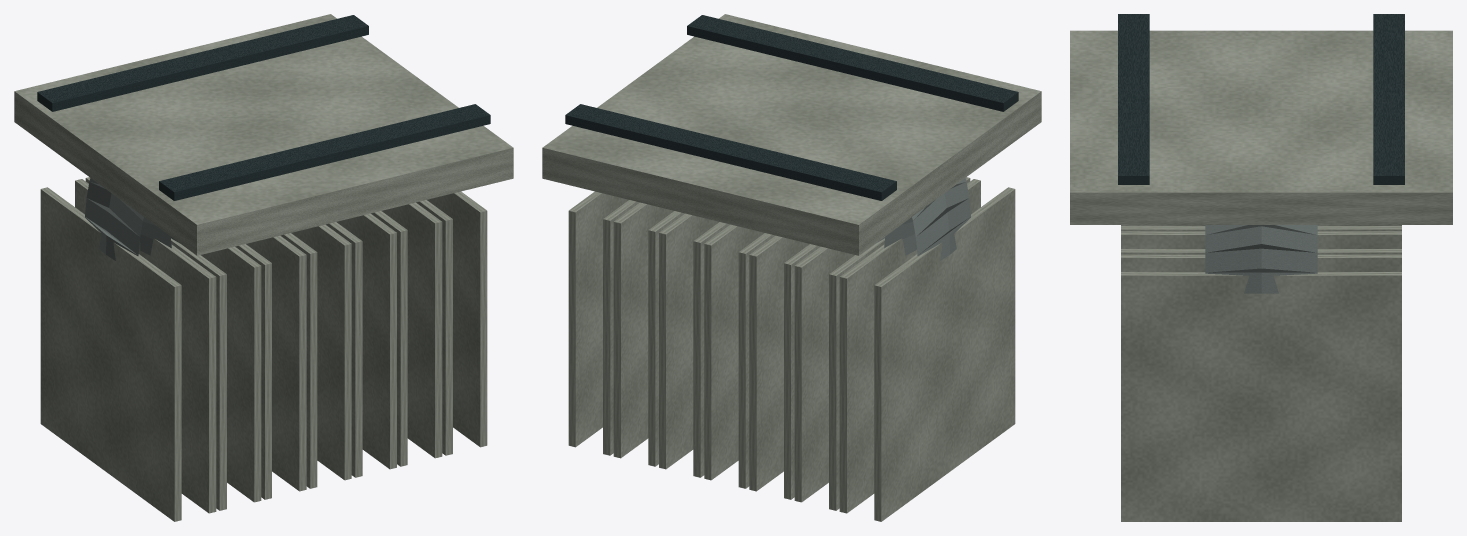
Rendered from transit_viaduct_01.fbx.
The picture shows the model from 3 angles, left to right: view 1: azimuth 30°, elevation 25°; view 2: azimuth 150°, elevation 25°; view 3: azimuth 270°, elevation 25°; orthographic projection. The views are drawn at different scales.
Parts seen in each view (by area): view 1: transit_viaduct_01_LOD0; view 2: transit_viaduct_01_LOD0; view 3: transit_viaduct_01_LOD0.
Boxes of the visible parts, left/top/right/bottom form: transit_viaduct_01_LOD0: left=14, top=14, right=513, bottom=521; transit_viaduct_01_LOD0: left=542, top=14, right=1041, bottom=521; transit_viaduct_01_LOD0: left=1070, top=14, right=1452, bottom=521.
Size of what is drawn, in the model's own units: 1 by 1 by 1.
